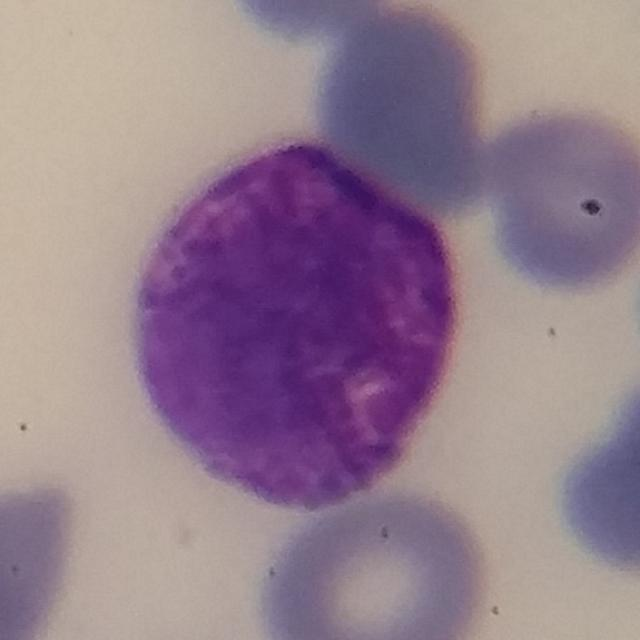Basophil: (108, 122, 483, 526)
RBC: (246, 482, 498, 640), (307, 5, 503, 206), (480, 99, 639, 301), (544, 353, 639, 594), (0, 477, 83, 638), (216, 0, 392, 46)
